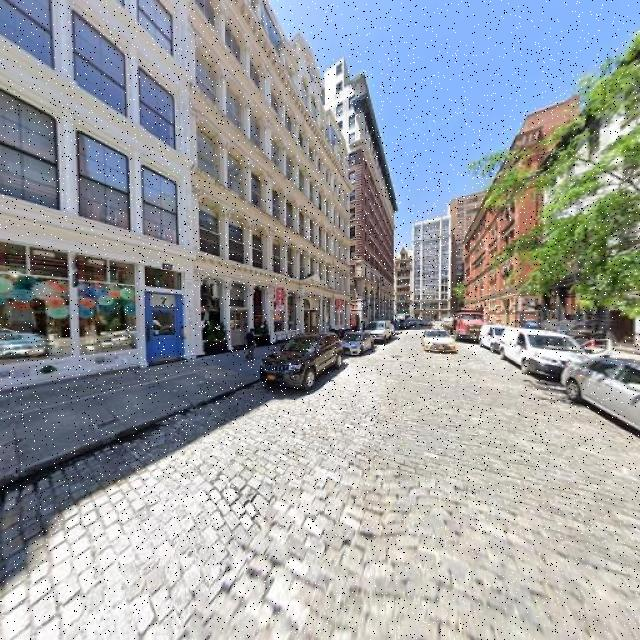Building: (1, 1, 187, 395), (190, 1, 349, 360)
